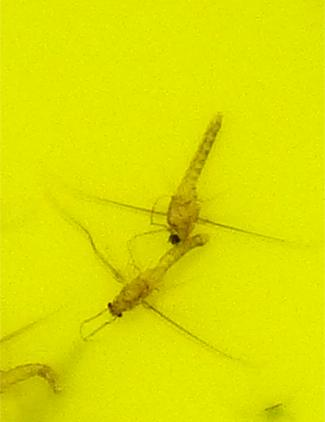Ephemeroptera: (100, 232, 219, 322), (162, 100, 225, 248)
